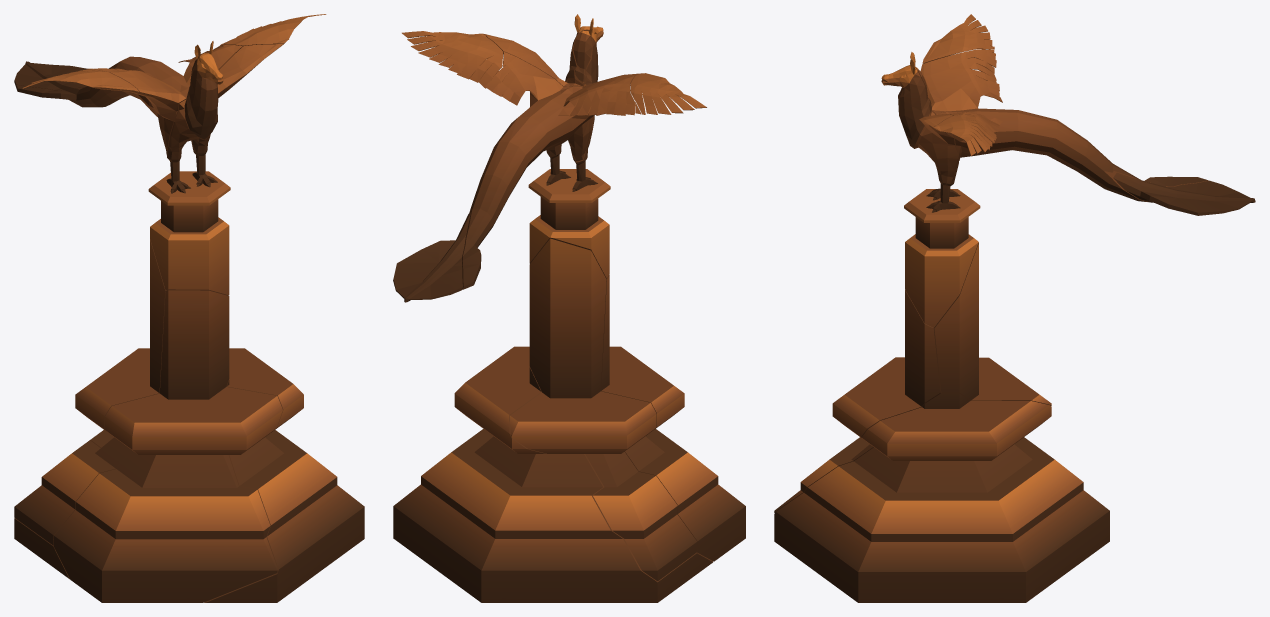
File: MonolitosDemoniacoFracture.fbx
3 views of the same model, side by side, from view 1: azimuth 30°, elevation 25°; view 2: azimuth 150°, elevation 25°; view 3: azimuth 270°, elevation 25° (orthographic). The views are drawn at different scales.
Visible parts, largest first — view 1: MonolitoDemoniaco.001_cell.005, MonolitoDemoniaco.001_cell.003, MonolitoDemoniaco.001_cell.009, MonolitoDemoniaco.001_cell.007, MonolitoDemoniaco.001_cell, MonolitoDemoniaco.001_cell.014, MonolitoDemoniaco.001_cell.028, MonolitoDemoniaco.001_cell.018, MonolitoDemoniaco.001_cell.011; view 2: MonolitoDemoniaco.001_cell.003, MonolitoDemoniaco.001_cell.009, MonolitoDemoniaco.001_cell.014, MonolitoDemoniaco.001_cell.005, MonolitoDemoniaco.001_cell.007, MonolitoDemoniaco.001_cell.028, MonolitoDemoniaco.001_cell.018, MonolitoDemoniaco.001_cell, MonolitoDemoniaco.001_cell.011, MonolitoDemoniaco.001_cell.020; view 3: MonolitoDemoniaco.001_cell.003, MonolitoDemoniaco.001_cell.014, MonolitoDemoniaco.001_cell.005, MonolitoDemoniaco.001_cell.007, MonolitoDemoniaco.001_cell.009, MonolitoDemoniaco.001_cell, MonolitoDemoniaco.001_cell.028, MonolitoDemoniaco.001_cell.011, MonolitoDemoniaco.001_cell.018.
Boxes of the visible parts, x1=… form: MonolitoDemoniaco.001_cell.005: x1=53, y1=290, x2=282, y2=602; MonolitoDemoniaco.001_cell.003: x1=14, y1=348, x2=364, y2=602; MonolitoDemoniaco.001_cell.009: x1=14, y1=239, x2=166, y2=544; MonolitoDemoniaco.001_cell.007: x1=148, y1=171, x2=230, y2=295; MonolitoDemoniaco.001_cell: x1=166, y1=41, x2=283, y2=193; MonolitoDemoniaco.001_cell.014: x1=15, y1=45, x2=242, y2=154; MonolitoDemoniaco.001_cell.028: x1=14, y1=61, x2=87, y2=90; MonolitoDemoniaco.001_cell.018: x1=220, y1=14, x2=326, y2=46; MonolitoDemoniaco.001_cell.011: x1=22, y1=68, x2=139, y2=92; MonolitoDemoniaco.001_cell.003: x1=393, y1=346, x2=712, y2=602; MonolitoDemoniaco.001_cell.009: x1=510, y1=238, x2=697, y2=581; MonolitoDemoniaco.001_cell.014: x1=462, y1=52, x2=637, y2=289; MonolitoDemoniaco.001_cell.005: x1=601, y1=274, x2=745, y2=561; MonolitoDemoniaco.001_cell.007: x1=528, y1=169, x2=610, y2=278; MonolitoDemoniaco.001_cell.028: x1=393, y1=204, x2=472, y2=302; MonolitoDemoniaco.001_cell.018: x1=402, y1=31, x2=502, y2=88; MonolitoDemoniaco.001_cell: x1=484, y1=14, x2=603, y2=191; MonolitoDemoniaco.001_cell.011: x1=629, y1=73, x2=706, y2=114; MonolitoDemoniaco.001_cell.020: x1=573, y1=18, x2=593, y2=82; MonolitoDemoniaco.001_cell.003: x1=774, y1=393, x2=1109, y2=602; MonolitoDemoniaco.001_cell.014: x1=920, y1=49, x2=1207, y2=201; MonolitoDemoniaco.001_cell.005: x1=774, y1=290, x2=941, y2=512; MonolitoDemoniaco.001_cell.007: x1=904, y1=189, x2=980, y2=327; MonolitoDemoniaco.001_cell.009: x1=934, y1=242, x2=1051, y2=405; MonolitoDemoniaco.001_cell: x1=881, y1=59, x2=960, y2=212; MonolitoDemoniaco.001_cell.028: x1=1104, y1=171, x2=1255, y2=215; MonolitoDemoniaco.001_cell.011: x1=922, y1=14, x2=994, y2=63; MonolitoDemoniaco.001_cell.018: x1=934, y1=114, x2=996, y2=155.
Bounding box in the file's own units: 1001 × 1599 × 1434.
